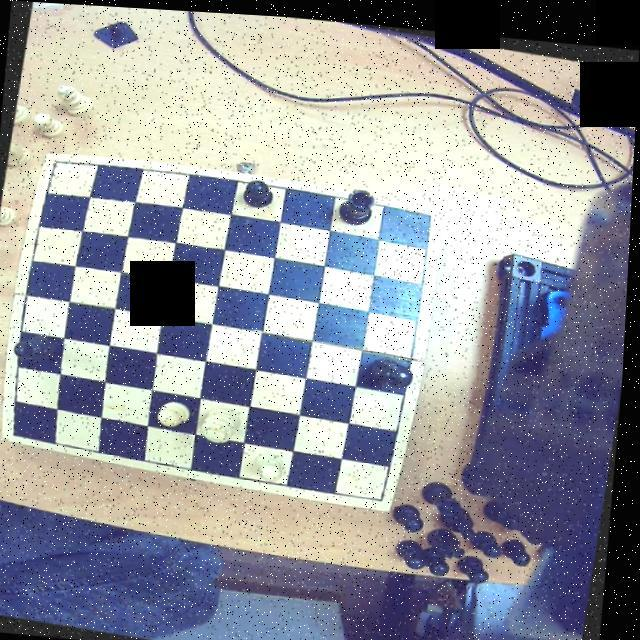chess-table-corners: (414, 200, 442, 224), (374, 479, 399, 503), (5, 423, 36, 442), (44, 153, 68, 174)
